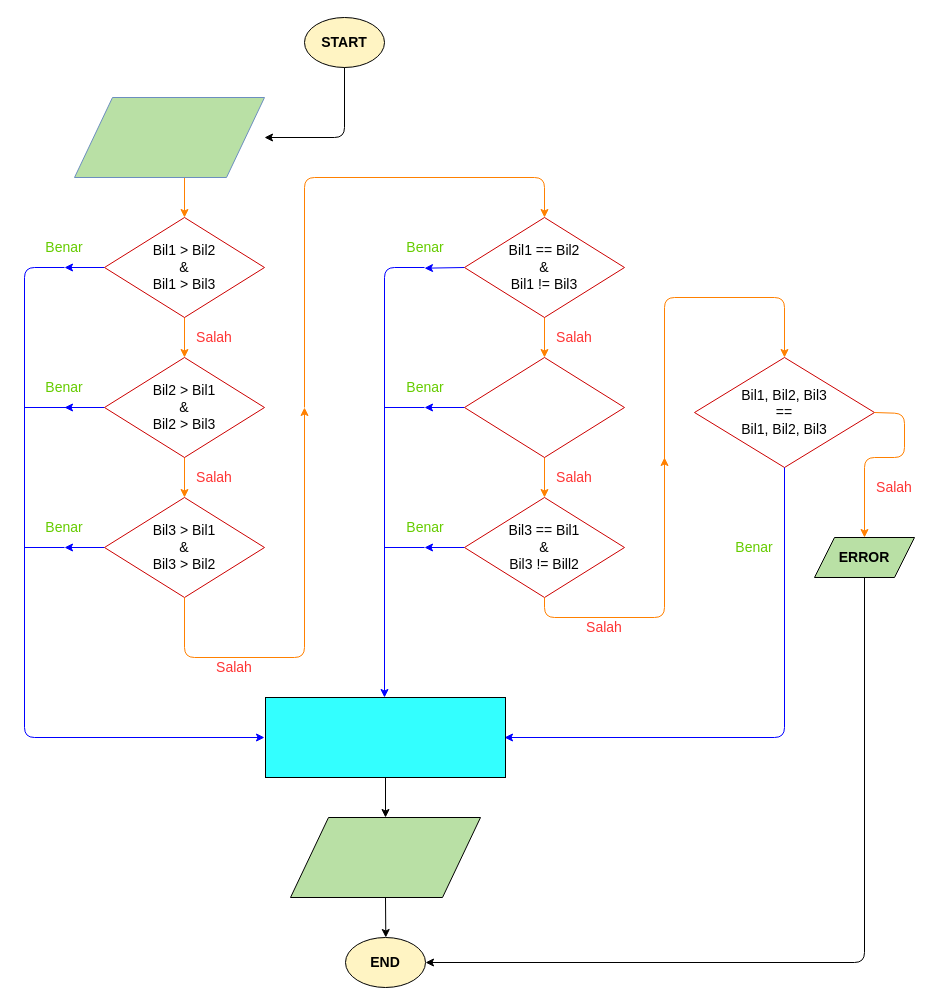
Image size: 932x1005. Some labels were removed from this diagram. The shapes that lost their labels are listed below. From the top down, each one's centre as x and y in pixels, then its label:
point (169, 137): Input Bilangan 1 Input Bilangan 2 Input Bilangan 3
point (544, 407): Bil2 == Bil3 & Bil2 != Bil1
point (385, 737): Nilai terbesar = Terbesar Nama bilangan = Nam_Bil
point (385, 857): Print Terbesar & Nam_Bil
